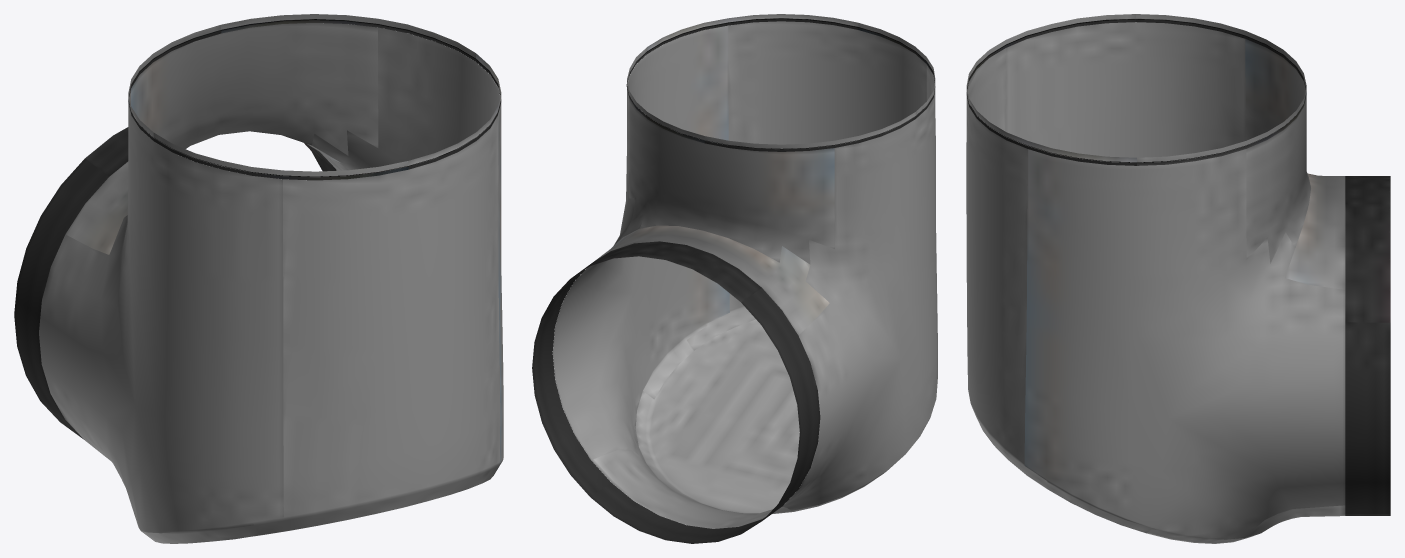
File: wrist_2_link.glb
3 renders of one model, left to right at view 1: azimuth 30°, elevation 25°; view 2: azimuth 150°, elevation 25°; view 3: azimuth 270°, elevation 25°, orthographic. The views are drawn at different scales.
Visible parts, largest first — view 1: wrist-2-mesh_005, wrist-2-mesh; view 2: wrist-2-mesh_005, wrist-2-mesh; view 3: wrist-2-mesh_005, wrist-2-mesh.
Boxes of the visible parts, x1,y1,x2,y2 form: wrist-2-mesh_005: (39, 14, 503, 543); wrist-2-mesh: (14, 20, 501, 439); wrist-2-mesh_005: (552, 14, 937, 528); wrist-2-mesh: (532, 19, 935, 543); wrist-2-mesh_005: (966, 14, 1345, 543); wrist-2-mesh: (966, 19, 1390, 515).
Bounding box in the file's own units: 0.1006 × 0.1382 × 0.1247.
1 material, 1 textured.
